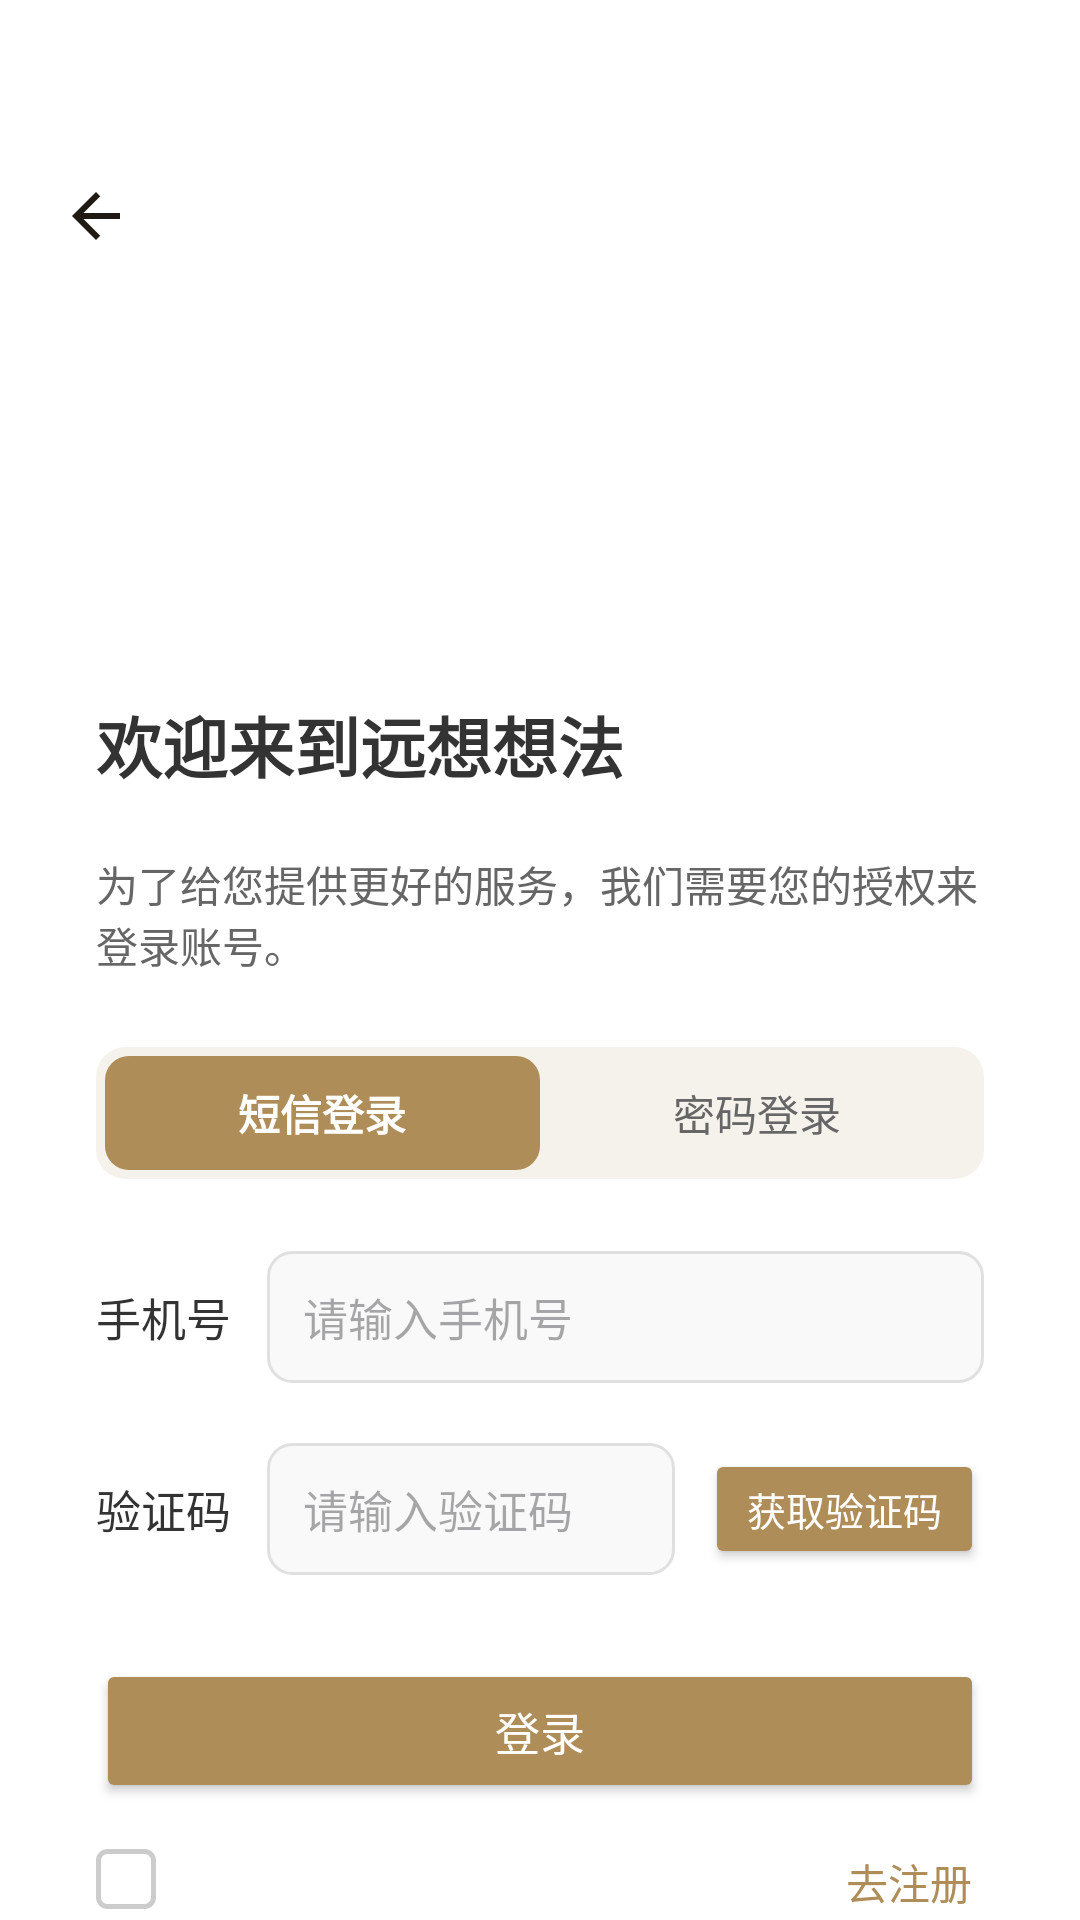

Point at icon controls on the screen. Image size 1080px×1920px, points as [x,y].
返回: [96,216]
